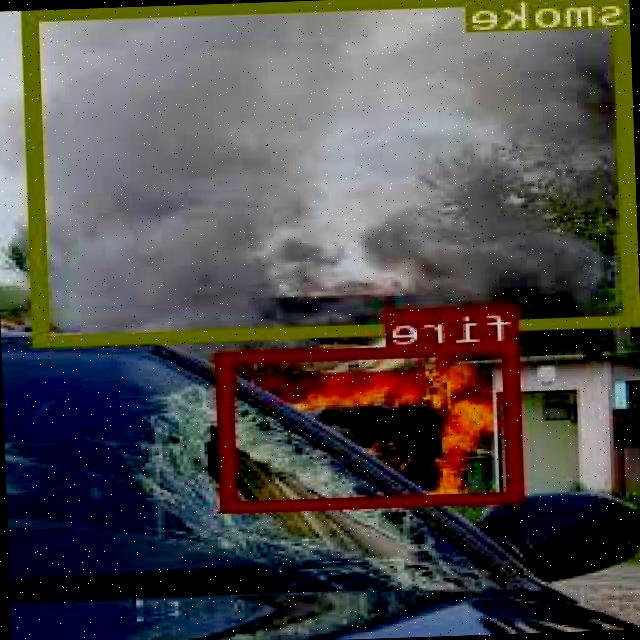fire: (218, 342, 526, 509)
smoke: (27, 0, 640, 343)
